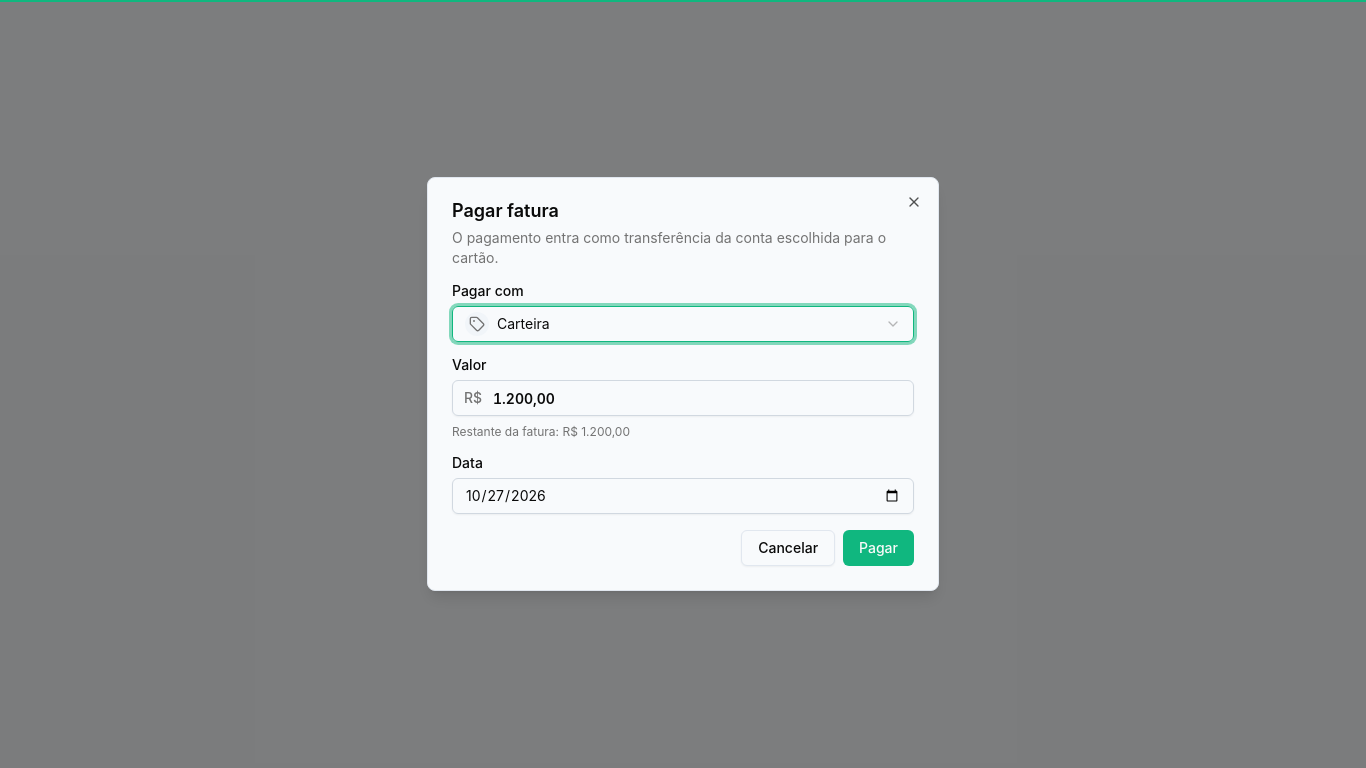
PayStatementDialog › a lista de contas de origem não mostra o cartão
The image size is (1366, 768).
What coordinates should you click on to do the following:
click the dropdown
I would click on:
 (523, 324)
Its box is 452,306 -> 914,342.
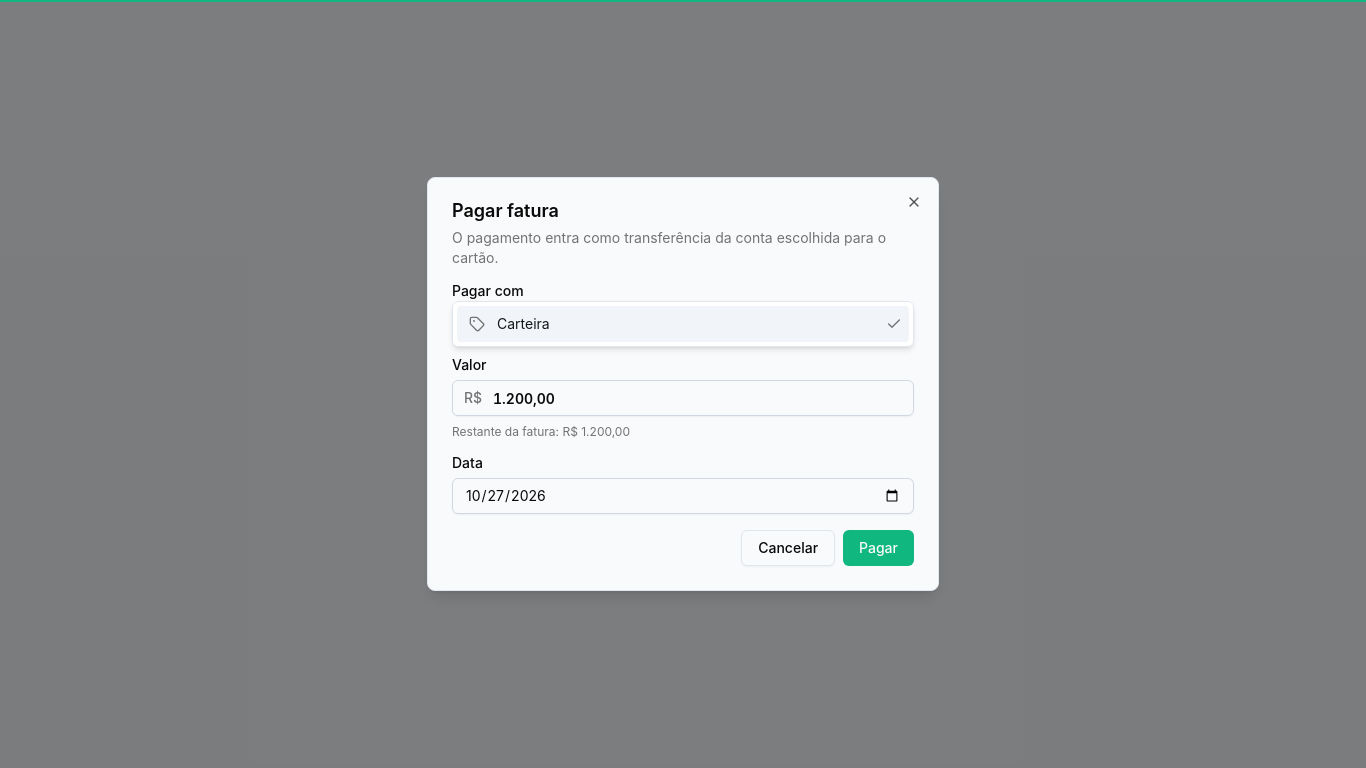
Expected: the options read "Carteira", in this order, 457,306 -> 909,342
